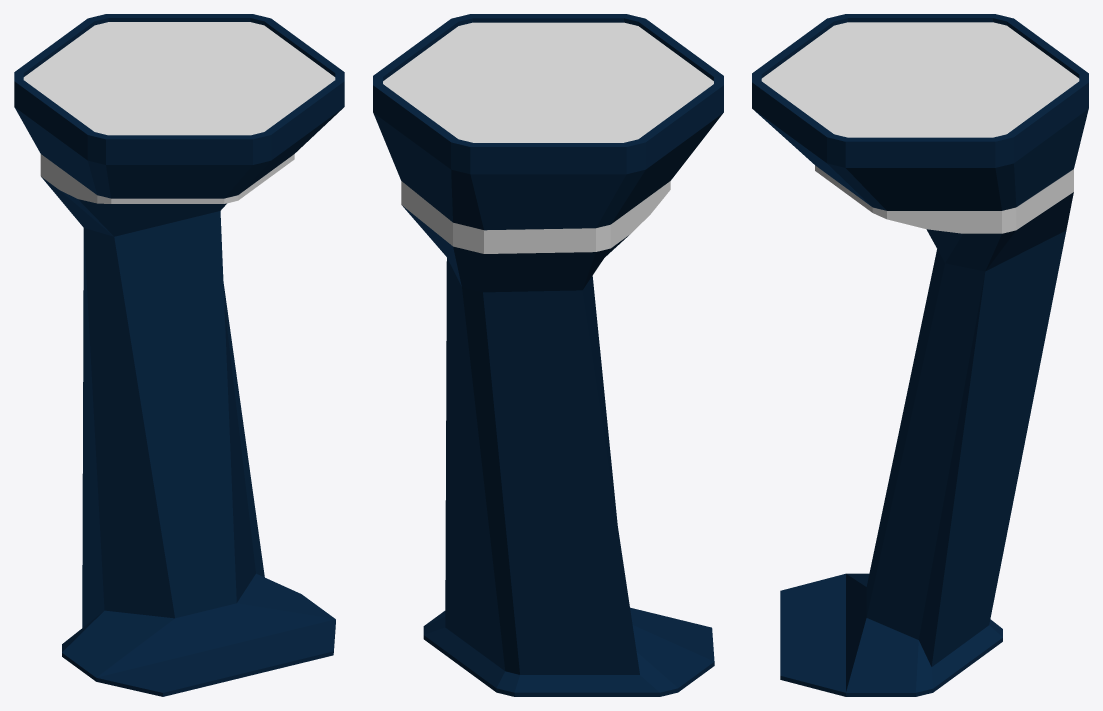
The model's file is desk_key.fbx.
3 renders of one model, left to right at view 1: azimuth 30°, elevation 25°; view 2: azimuth 150°, elevation 25°; view 3: azimuth 270°, elevation 25°, orthographic. The views are drawn at different scales.
Parts seen in each view (by area): view 1: desk_key; view 2: desk_key; view 3: desk_key.
Part boxes in pixels (x1,y1,x2,y2): desk_key: [14, 14, 344, 696]; desk_key: [373, 14, 723, 696]; desk_key: [752, 14, 1088, 696].
Size of the model in its own units: 52.32 by 107 by 58.27.
